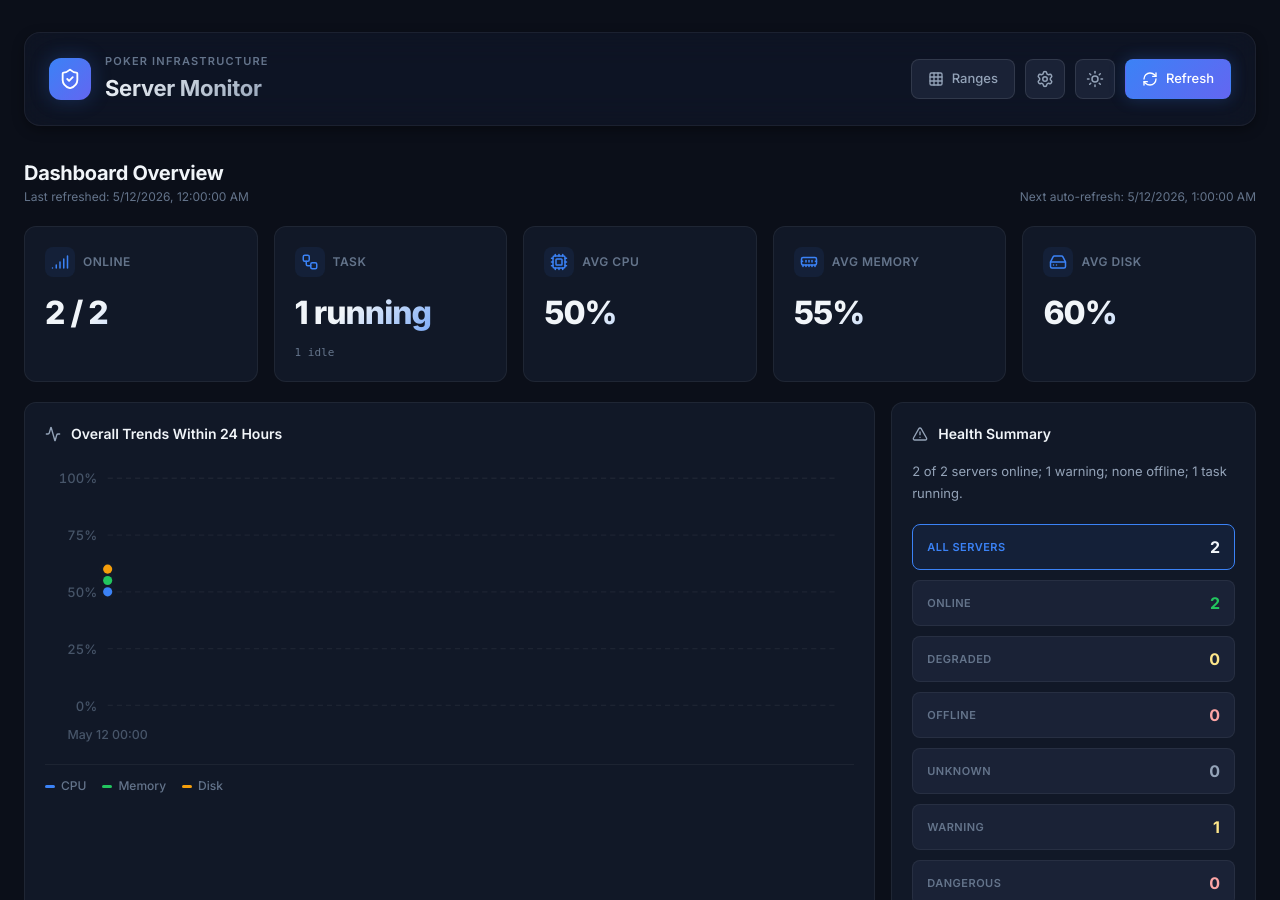
Test: App › shows the exact WeChat user that must refresh context_token after ret=-2
Click the button named "Open settings" at (1045, 79), box left=1025, top=59, right=1065, bottom=99
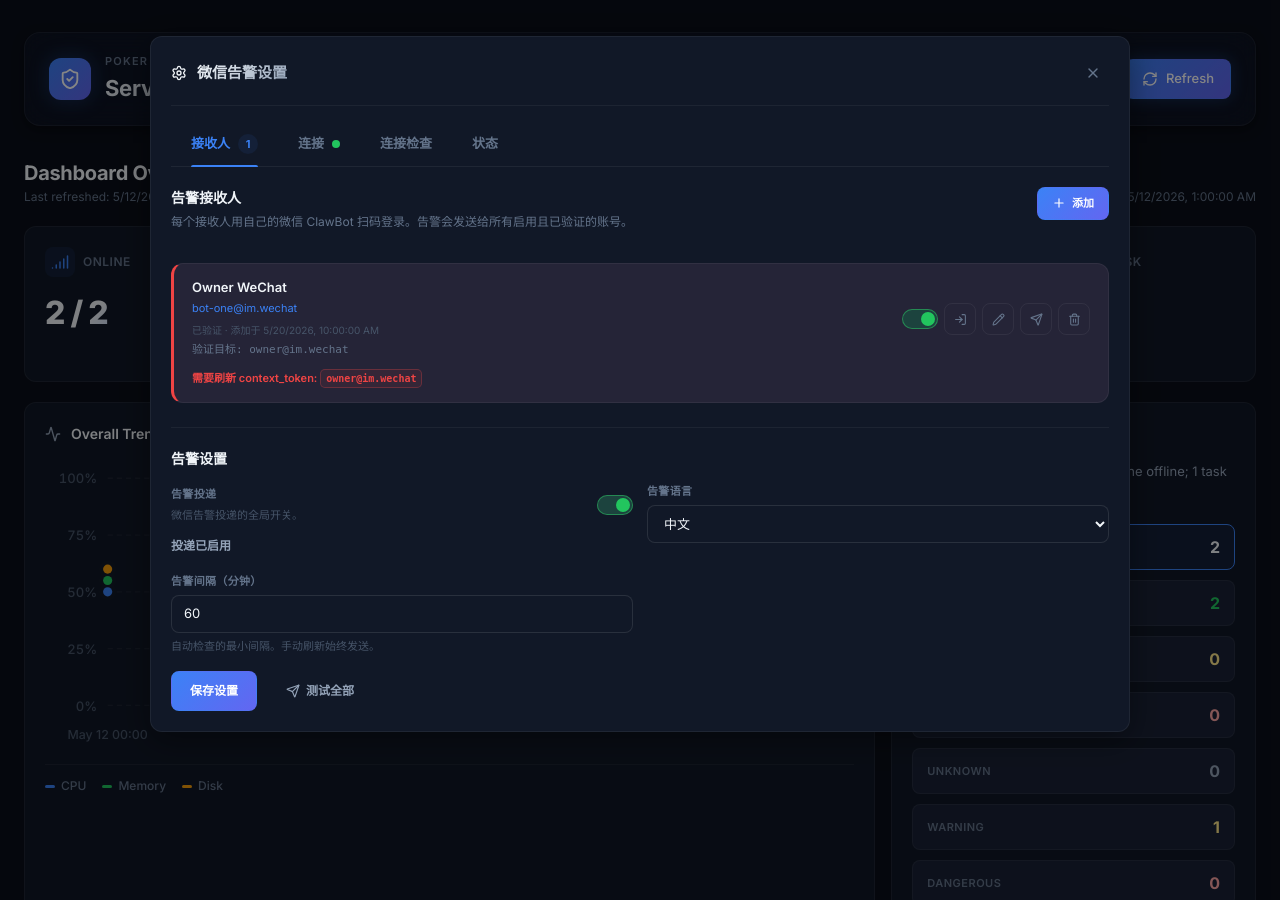
Expected: the text "Owner WeChat" is shown, left=192, top=279, right=287, bottom=295
Expected: the text "需要刷新 context_token: owner@im.wechat" is shown, left=192, top=369, right=422, bottom=388
Click the button named "打开连接: Owner WeChat" at (960, 319), box left=944, top=303, right=976, bottom=335
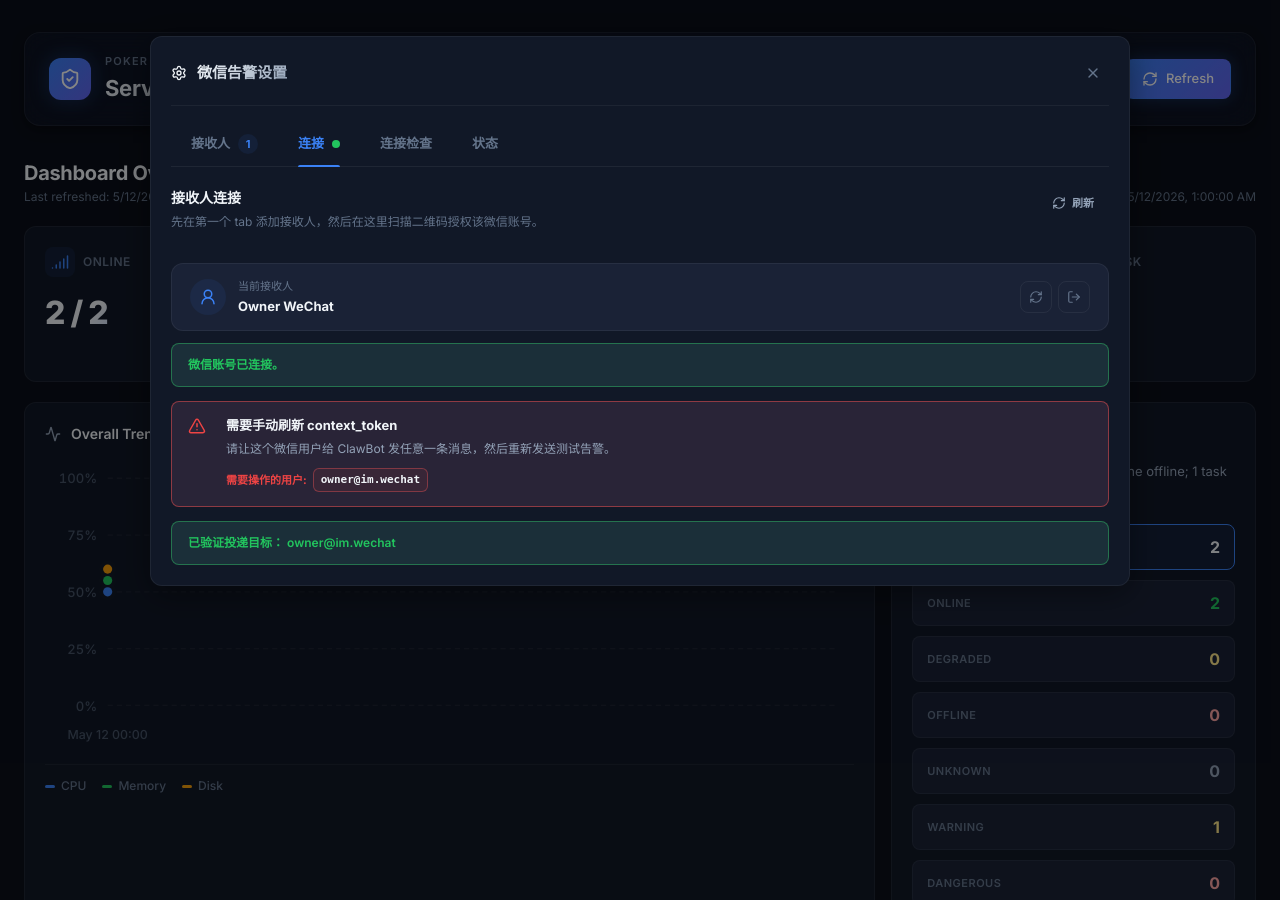
Expected: the text "需要手动刷新 context_token" is shown, left=226, top=417, right=397, bottom=433
Expected: the text "请让这个微信用户给 ClawBot 发任意一条消息，然后重新发送测试告警。" is shown, left=226, top=441, right=616, bottom=456
Expected: the message shows "owner@im.wechat", left=321, top=473, right=420, bottom=486
